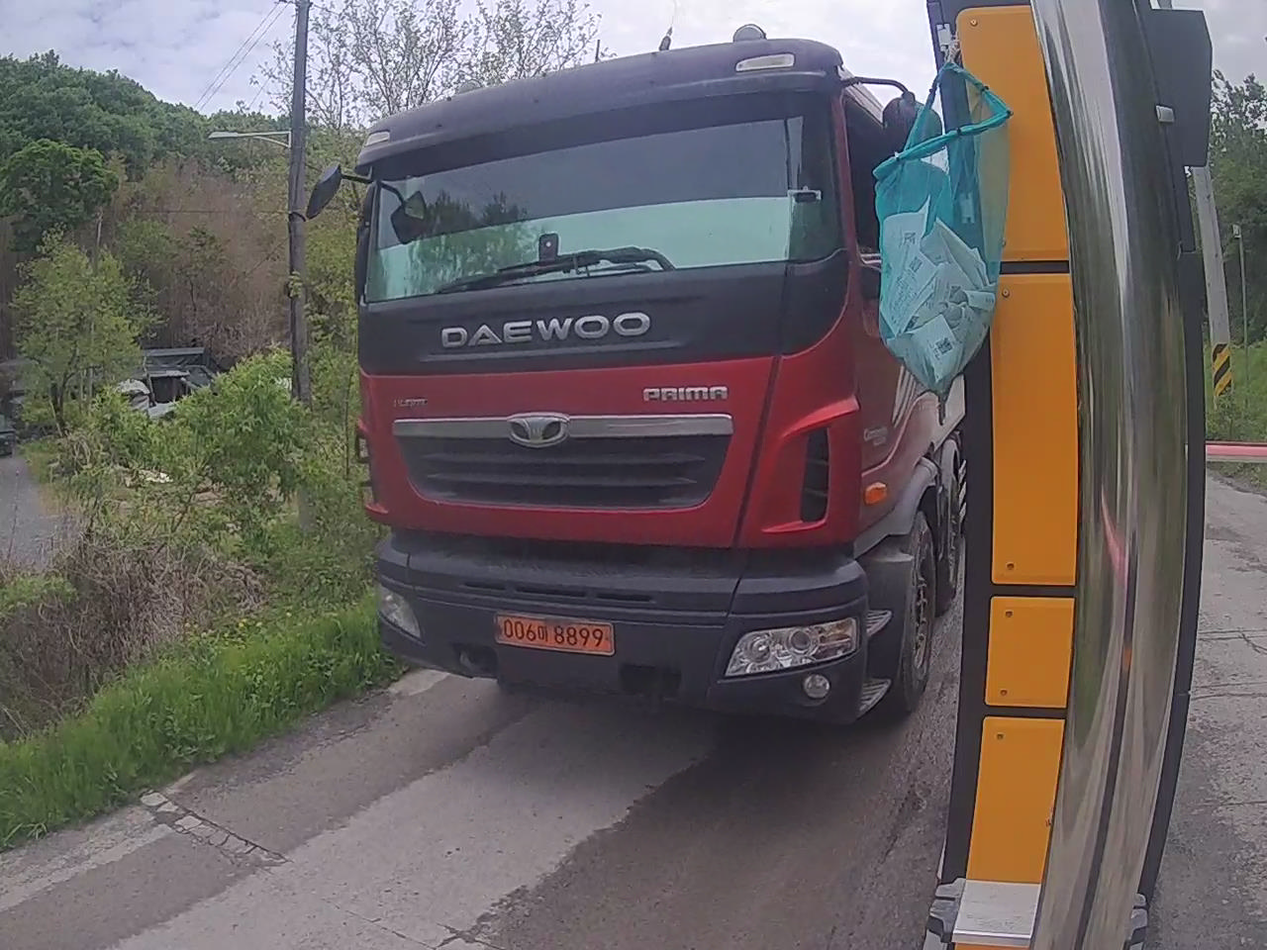license_plate: (495, 616, 614, 655)
truck: (307, 28, 965, 724)
